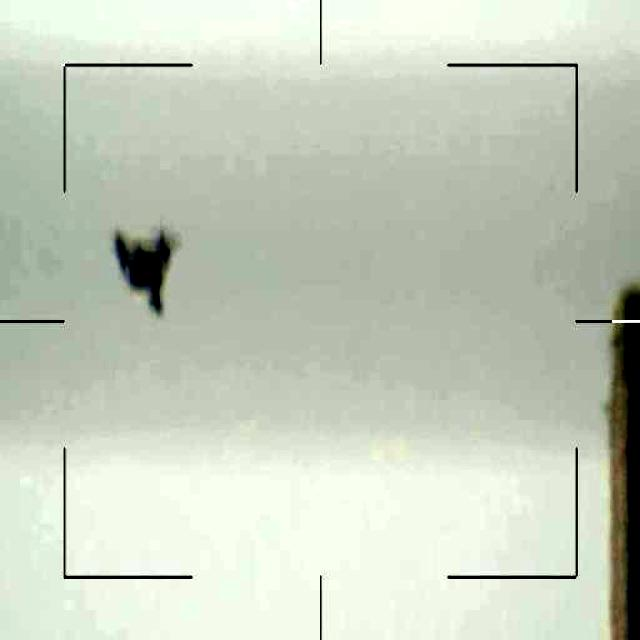bird: (109, 225, 186, 315)
